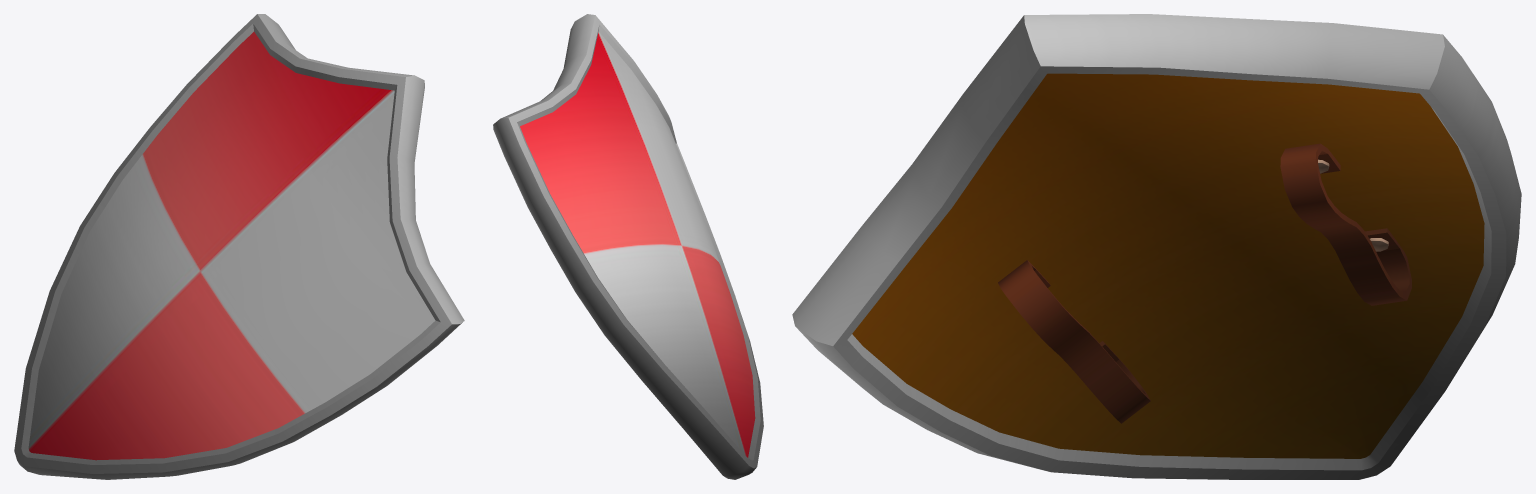
3 renders of one model, left to right at view 1: azimuth 30°, elevation 25°; view 2: azimuth 150°, elevation 25°; view 3: azimuth 270°, elevation 25°, orthographic. The views are drawn at different scales.
Parts seen in each view (by area): view 1: Box003; view 2: Box003; view 3: Box003, Box007_Material__01_0.
Part boxes in pixels (bbox=[...]): Box003: bbox=[14, 14, 464, 479]; Box003: bbox=[493, 14, 763, 479]; Box003: bbox=[792, 14, 1521, 479]; Box007_Material__01_0: bbox=[998, 143, 1411, 423].
Size of the model in its own units: 167 by 207 by 202.
Materials: 1 (1 with a texture image).
